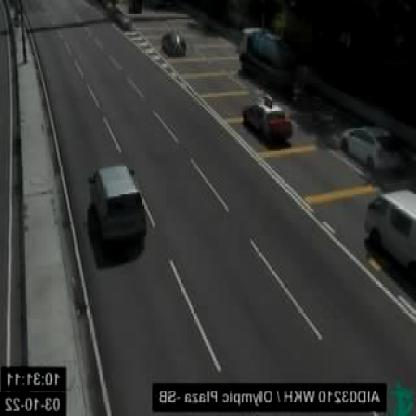Car: (365, 187, 416, 279), (90, 165, 146, 241), (343, 123, 403, 175), (243, 95, 293, 139), (164, 30, 188, 56)
Truck: (242, 28, 295, 85)
